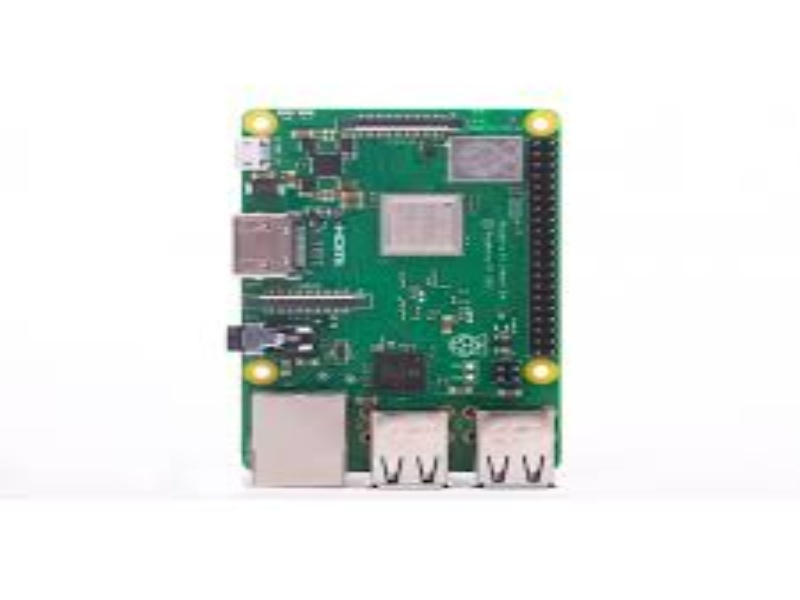raspberrypi: (223, 85, 573, 508)
